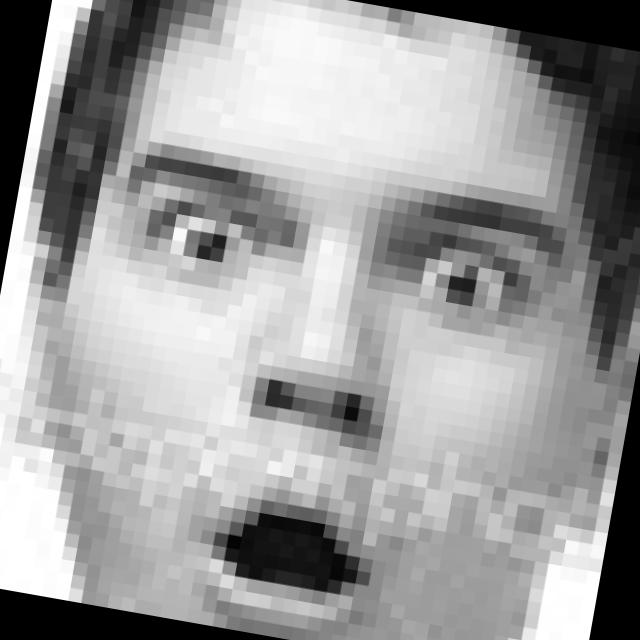surprise: (40, 127, 580, 640)
